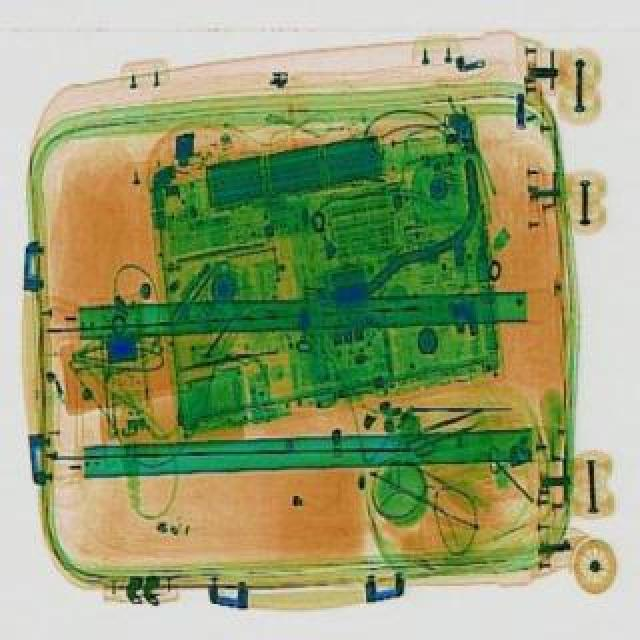pliers: (404, 410, 478, 458)
